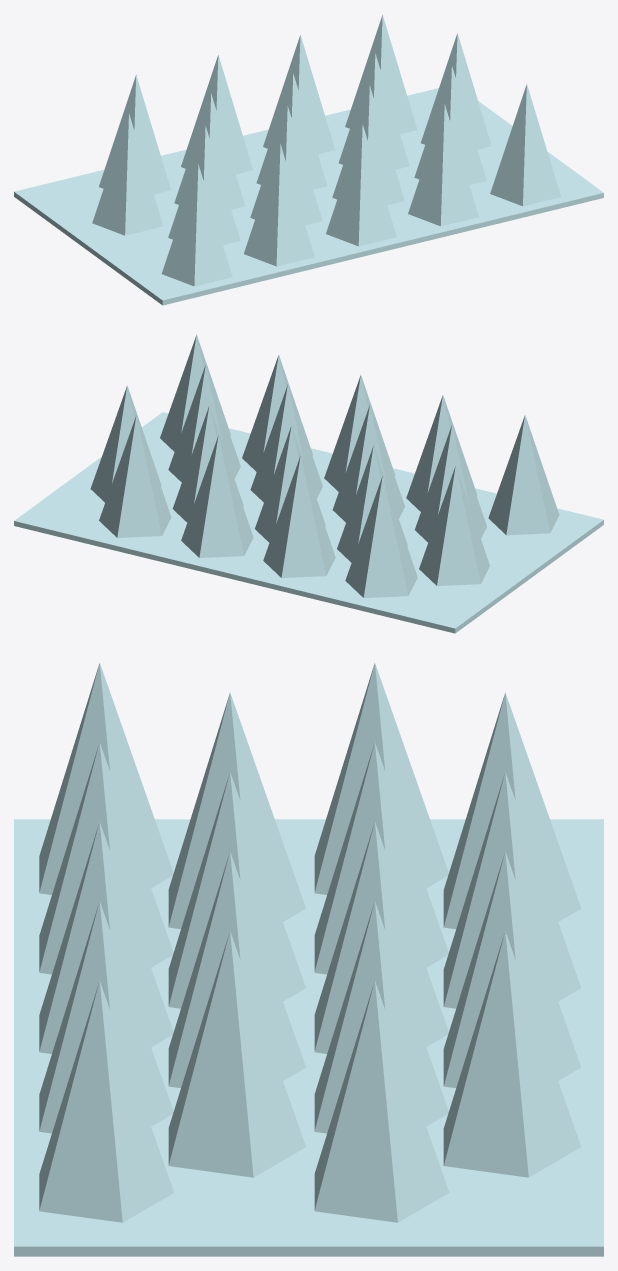
File: Peaks.fbx
The picture shows the model from 3 angles, top to bottom: view 1: azimuth 30°, elevation 25°; view 2: azimuth 150°, elevation 25°; view 3: azimuth 270°, elevation 25°; orthographic projection. The views are drawn at different scales.
Visible parts, largest first — view 1: Cone.001; view 2: Cone.001; view 3: Cone.001.
Part boxes in pixels (x1=…): Cone.001: x1=14, y1=15, x2=603, y2=305; Cone.001: x1=14, y1=334, x2=603, y2=633; Cone.001: x1=14, y1=663, x2=603, y2=1256.
Size of the model in its own units: 685 by 173 by 400.
